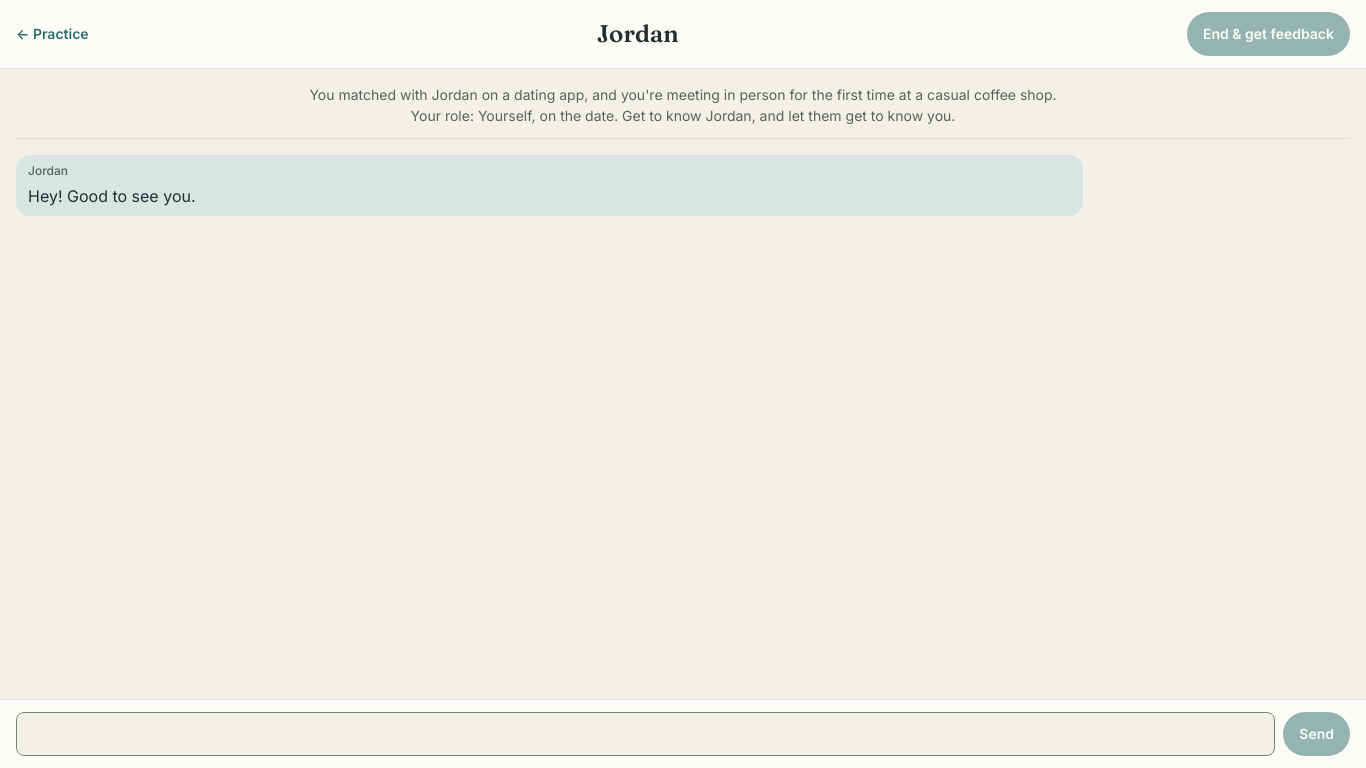
Test: AppUpdateOffer in the app shell › holds the offer back during a Practice Conversation in the real app and shows it after leaving
The width and height of the screenshot is (1366, 768).
Expected: the text "Hey! Good to see you." is shown, [28,186,196,206]
Expected: the button "Reload" is not shown
Step 1. Click the button "← Practice" → (52, 34), box [16,12,89,56]
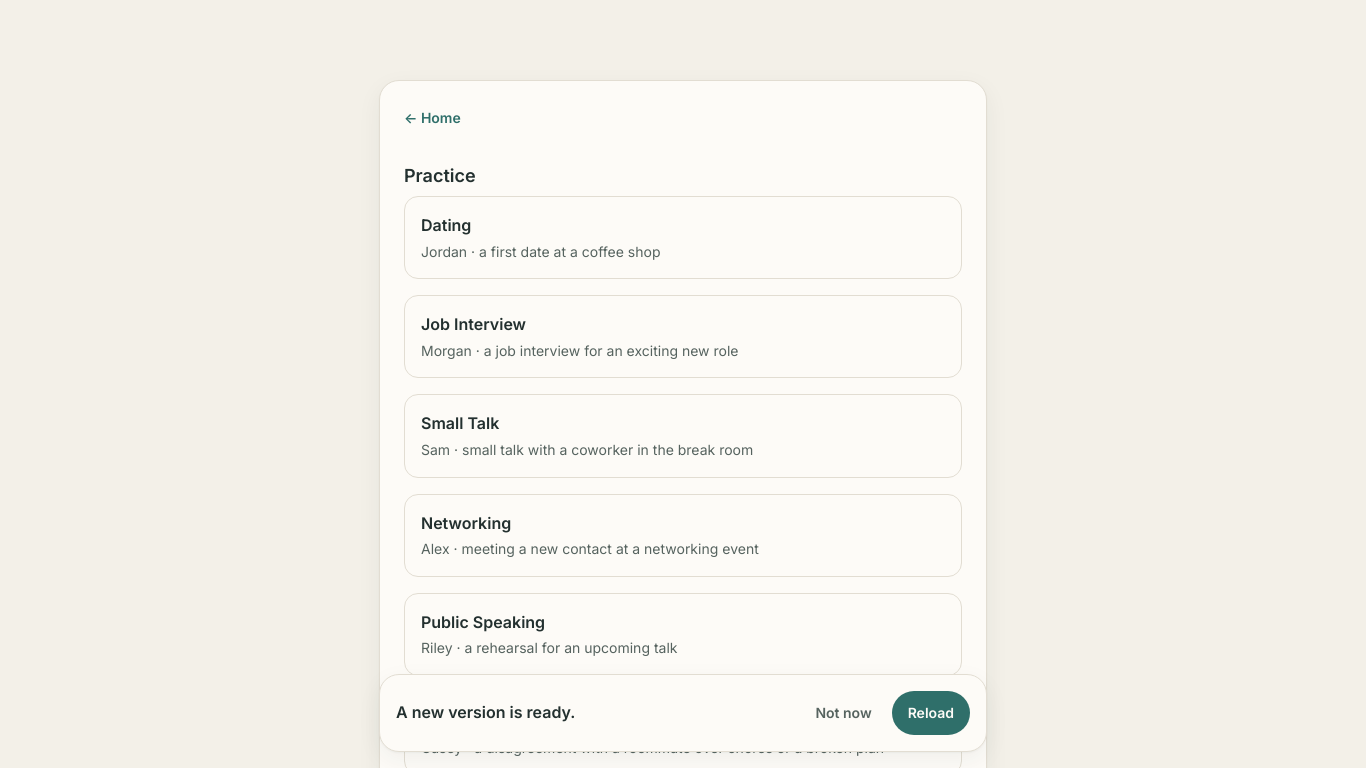
Expected: the button "Reload" is shown, [892,691,970,735]
